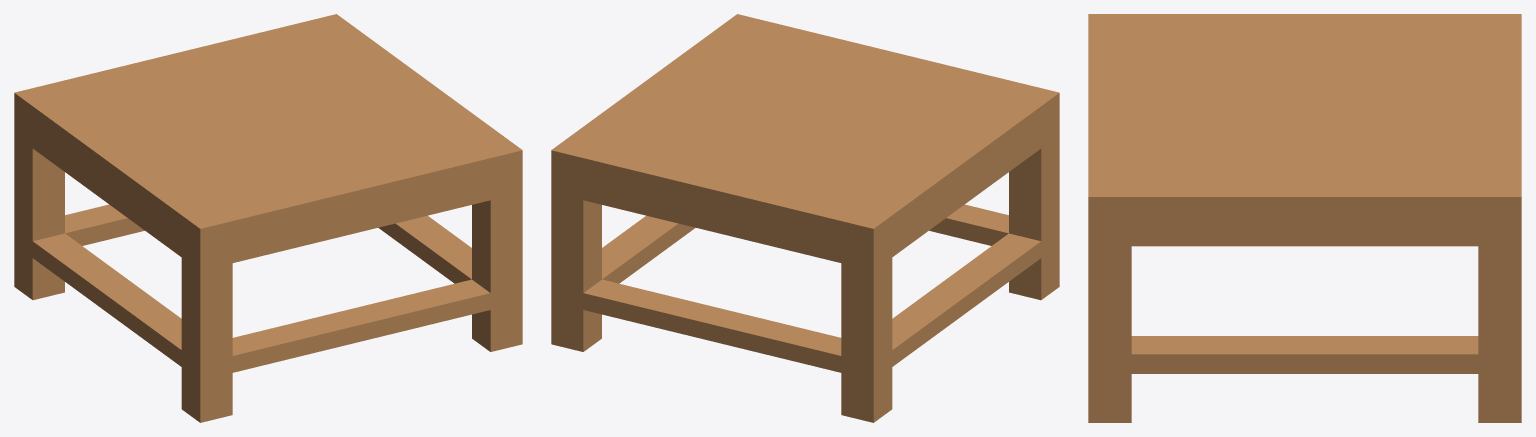
Rendered from kitTableCoffeeSquare.glb.
The picture shows the model from 3 angles, left to right: view 1: azimuth 30°, elevation 25°; view 2: azimuth 150°, elevation 25°; view 3: azimuth 270°, elevation 25°; orthographic projection. The views are drawn at different scales.
Parts seen in each view (by area): view 1: kitTableCoffeeSquare_wood; view 2: kitTableCoffeeSquare_wood; view 3: kitTableCoffeeSquare_wood.
Boxes of the visible parts, x1,y1,x2,y2 form: kitTableCoffeeSquare_wood: (14,14,522,422); kitTableCoffeeSquare_wood: (551,14,1059,422); kitTableCoffeeSquare_wood: (1088,14,1521,422).
Bounding box in the file's own units: 0.8 × 0.46 × 0.8.
